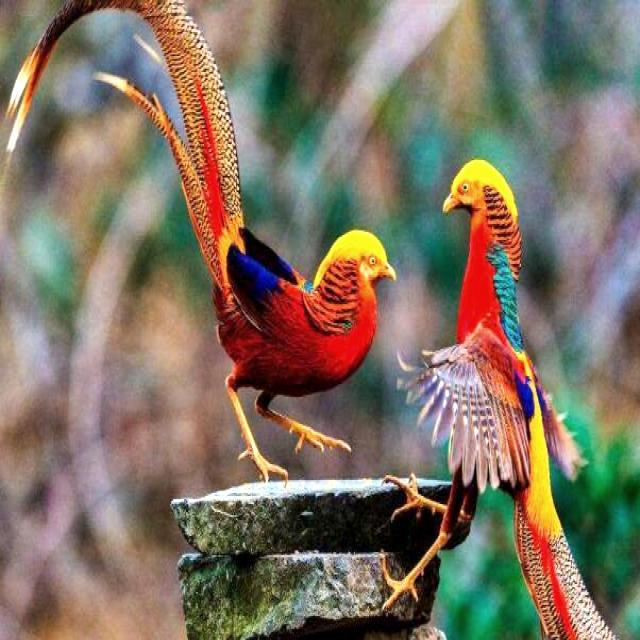Chrysolophus pictus feather: (3, 0, 245, 285), (515, 493, 616, 640)
